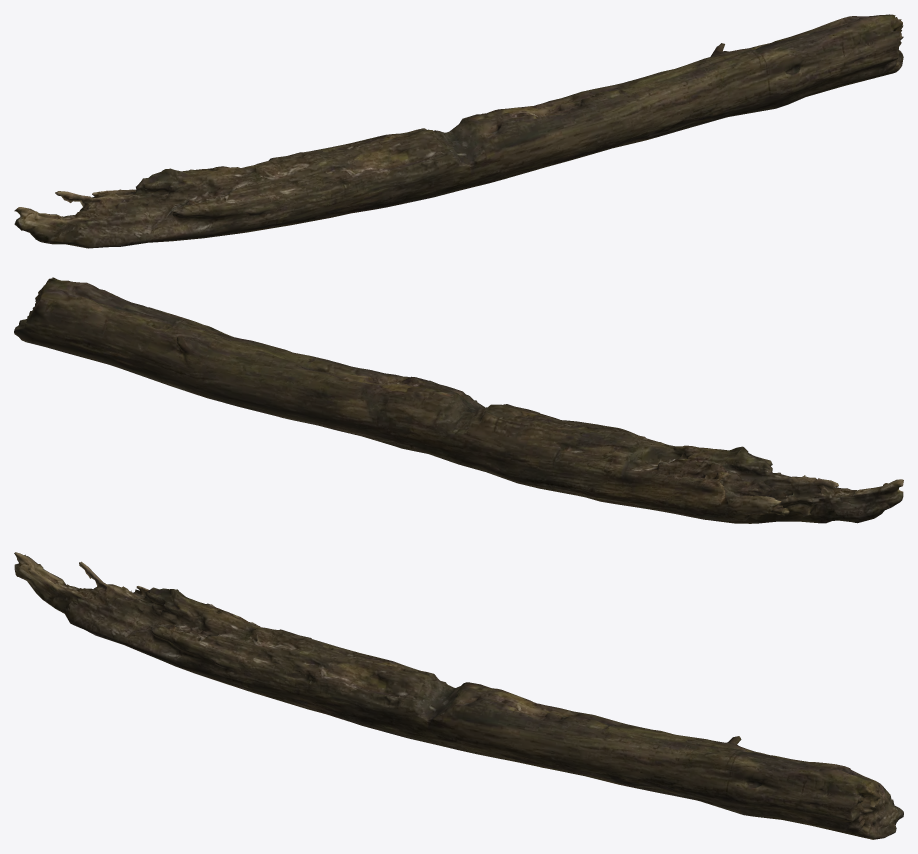
Rendered from dead_tree_trunk.glb.
The picture shows the model from 3 angles, top to bottom: view 1: azimuth 30°, elevation 25°; view 2: azimuth 150°, elevation 25°; view 3: azimuth 330°, elevation 25°; orthographic projection.
Parts seen in each view (by area): view 1: dead_tree_trunk; view 2: dead_tree_trunk; view 3: dead_tree_trunk.
Boxes of the visible parts, x1,y1,x2,y2 form: dead_tree_trunk: (14,14,903,248); dead_tree_trunk: (14,277,903,523); dead_tree_trunk: (14,552,903,839).
Size of the model in its own units: 3.05 by 0.2905 by 0.2771.
1 material, 1 textured.
